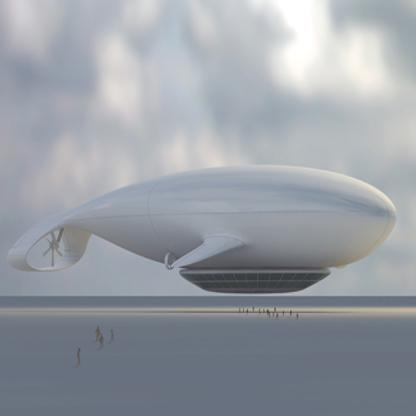Airship: (7, 164, 399, 301)
